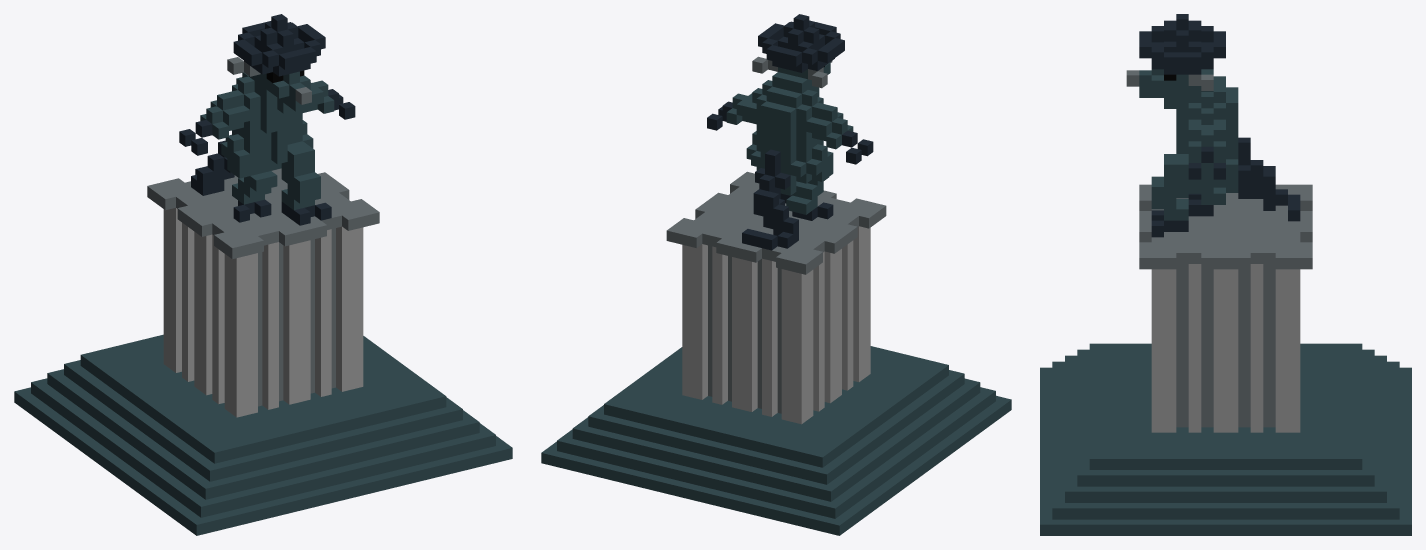
Rendered from rat_statue_overtile.obj.
The picture shows the model from 3 angles, left to right: view 1: azimuth 30°, elevation 25°; view 2: azimuth 150°, elevation 25°; view 3: azimuth 270°, elevation 25°; orthographic projection. The views are drawn at different scales.
Bounding box in the file's own units: 3 × 3.9 × 3.
1 material, 1 textured.
